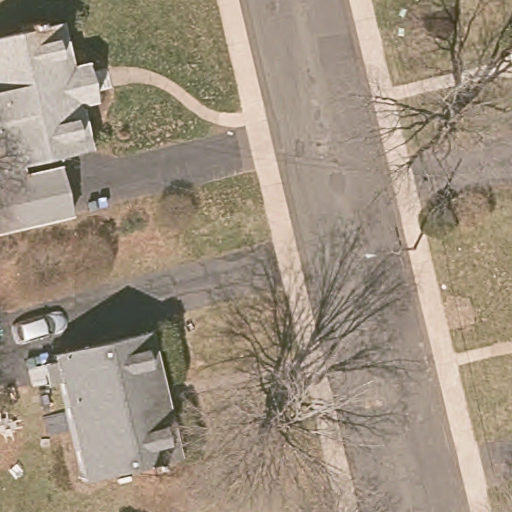DT: (365, 228, 415, 260)
